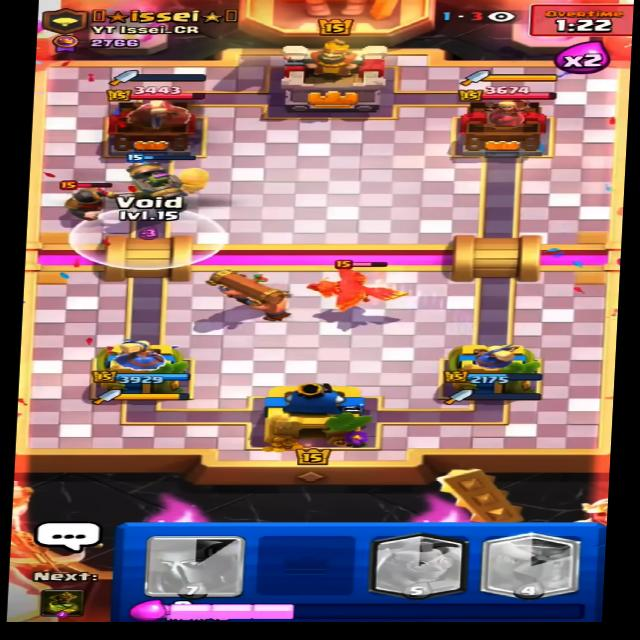knight: (55, 172, 123, 225)
phoenix: (295, 258, 420, 314)
